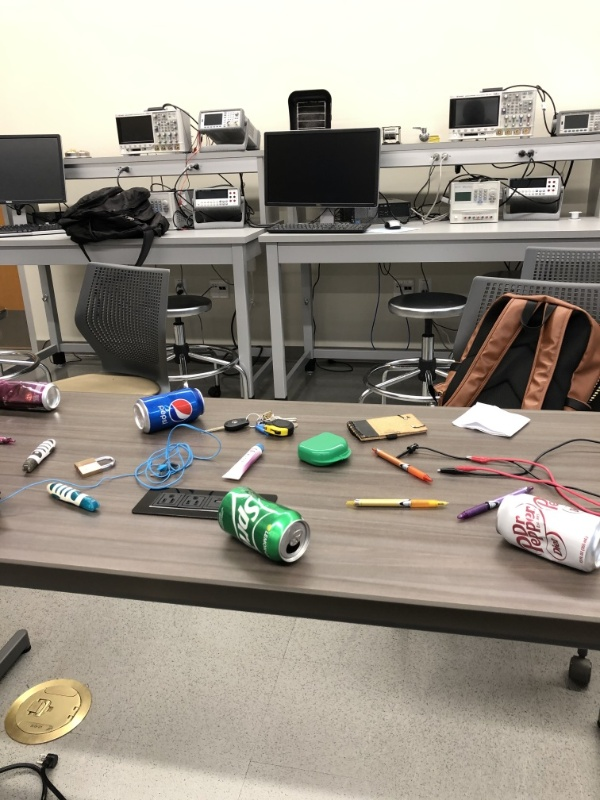can: (494, 491, 600, 579), (211, 487, 312, 568), (131, 388, 209, 433), (1, 374, 64, 418)
